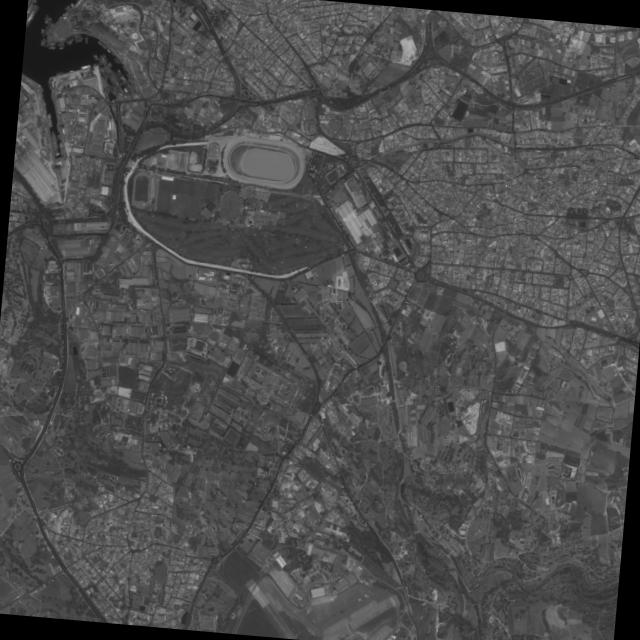plane: (302, 604, 313, 616), (327, 594, 335, 602), (355, 595, 363, 603), (337, 607, 344, 614), (361, 592, 368, 598), (329, 611, 335, 617)
ship: (48, 129, 59, 156), (110, 67, 122, 86), (97, 64, 108, 78), (102, 76, 109, 93), (95, 39, 106, 49), (97, 52, 106, 63), (57, 140, 63, 156), (99, 74, 105, 90), (45, 112, 51, 127), (96, 56, 104, 65), (102, 89, 109, 99), (64, 36, 73, 43), (45, 20, 53, 27), (54, 121, 59, 132), (53, 69, 62, 75), (72, 35, 82, 40), (90, 52, 96, 60), (56, 132, 61, 141), (43, 16, 50, 22), (101, 52, 107, 59), (73, 37, 81, 42), (62, 3, 69, 8), (41, 14, 48, 19), (41, 36, 44, 46), (55, 41, 63, 44), (47, 45, 55, 48), (38, 38, 41, 45), (57, 46, 63, 49), (39, 27, 42, 33), (58, 44, 63, 46)
storage-tank: (129, 30, 138, 39), (62, 15, 66, 18)
